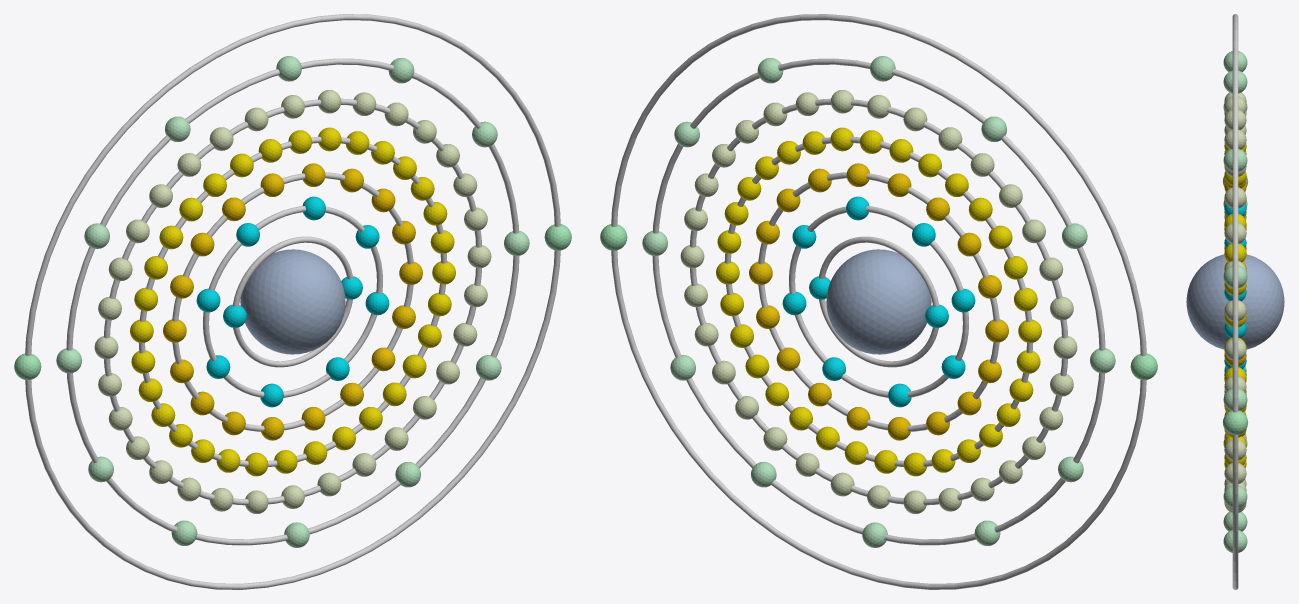
3 views of the same model, side by side, from view 1: azimuth 30°, elevation 25°; view 2: azimuth 150°, elevation 25°; view 3: azimuth 270°, elevation 25° (orthographic). The views are drawn at different scales.
Visible parts, largest first — view 1: world; view 2: world; view 3: world.
Boxes of the visible parts, x1,y1,x2,y2 form: world: (14, 14, 571, 589); world: (600, 14, 1157, 589); world: (1186, 14, 1284, 589).
Size of the model in its own units: 2.67 by 2.59 by 0.44.
